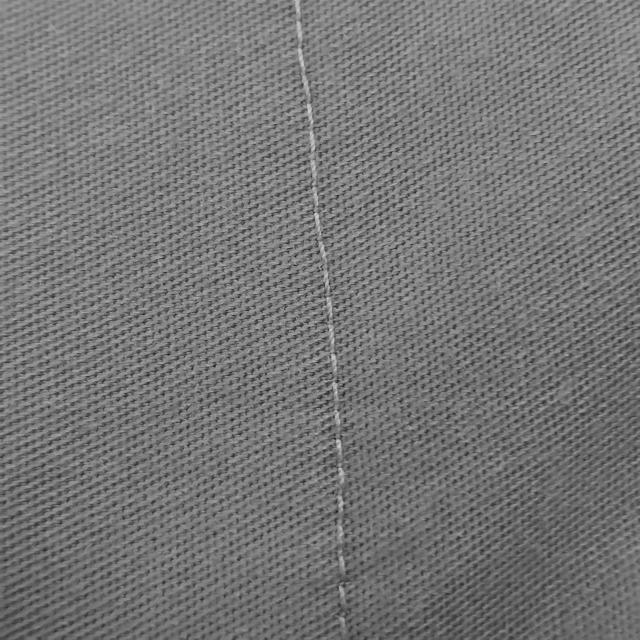stitch: (317, 236, 328, 272), (313, 208, 323, 242), (338, 584, 348, 615), (302, 72, 312, 102), (308, 129, 317, 161), (328, 322, 337, 354), (337, 490, 345, 526), (337, 520, 345, 556), (338, 616, 350, 640), (310, 156, 318, 190), (333, 410, 342, 439), (338, 555, 347, 584), (298, 49, 307, 76), (323, 271, 332, 298), (307, 100, 315, 130), (330, 351, 338, 381), (295, 19, 303, 48), (332, 381, 340, 410), (335, 439, 343, 468), (312, 184, 320, 212), (325, 298, 333, 325), (337, 468, 345, 495), (293, 0, 302, 21)
